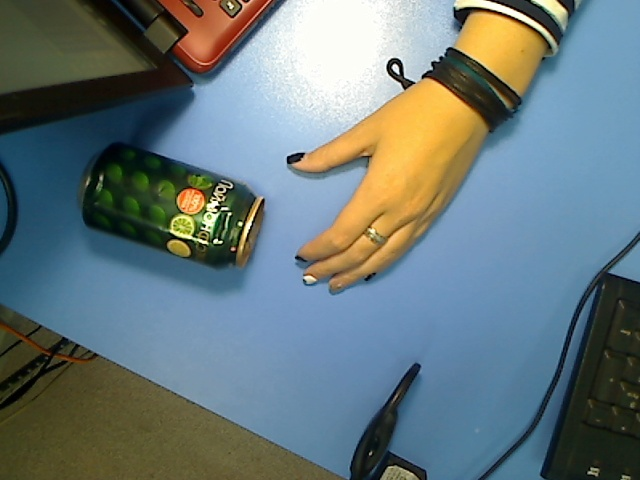can: (76, 142, 266, 272)
